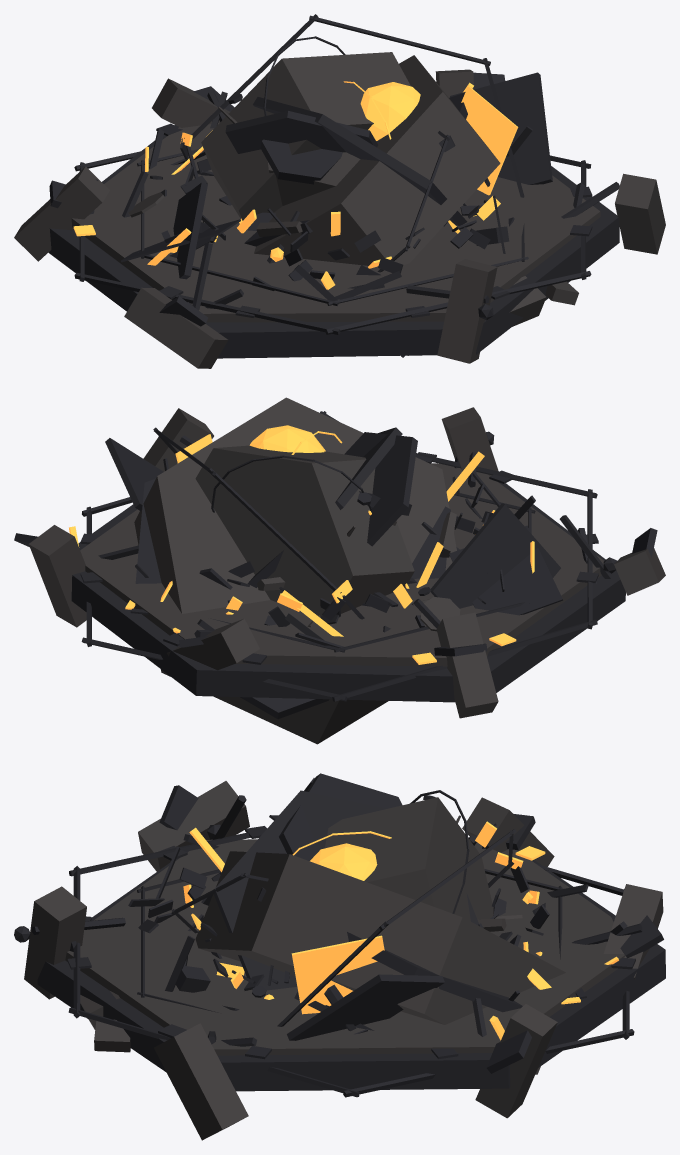
File: Wreck_CoreNexus.fbx
3 views of the same model, one above another, from view 1: azimuth 30°, elevation 25°; view 2: azimuth 150°, elevation 25°; view 3: azimuth 270°, elevation 25° (orthographic). The views are drawn at different scales.
Parts seen in each view (by area): view 1: Wreck_CoreNexus; view 2: Wreck_CoreNexus; view 3: Wreck_CoreNexus.
Part boxes in pixels (x1,y1,x2,y2): Wreck_CoreNexus: (14,14,665,368); Wreck_CoreNexus: (14,397,665,744); Wreck_CoreNexus: (14,773,665,1140).
Size of the model in its own units: 3.25 by 1.56 by 3.11.
